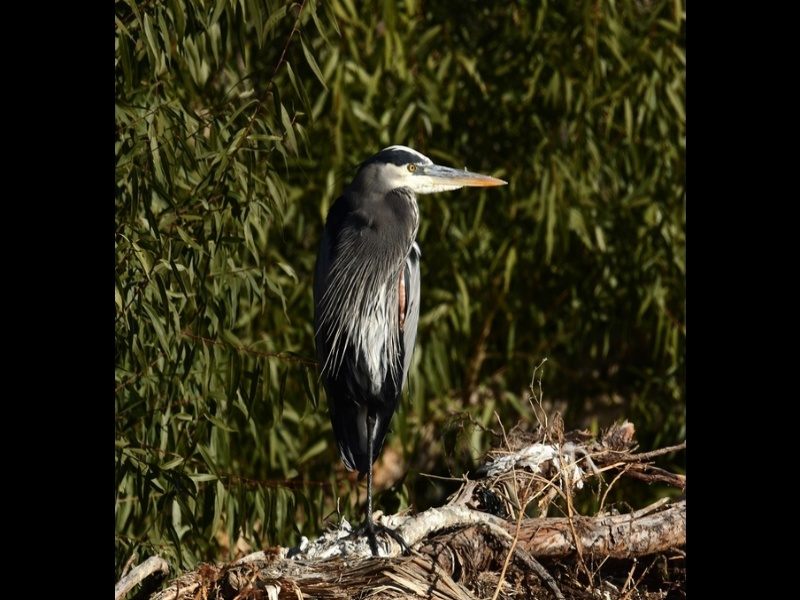heron: (304, 140, 512, 556)
